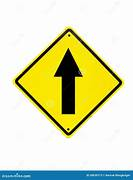forward: (12, 28, 125, 137)
